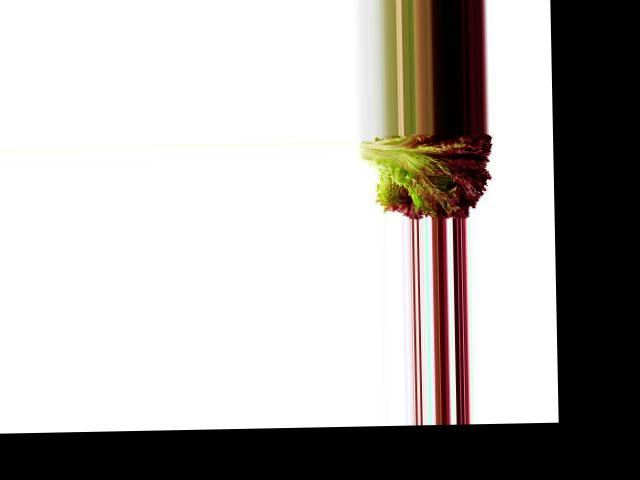lettuce: (356, 132, 500, 218)
